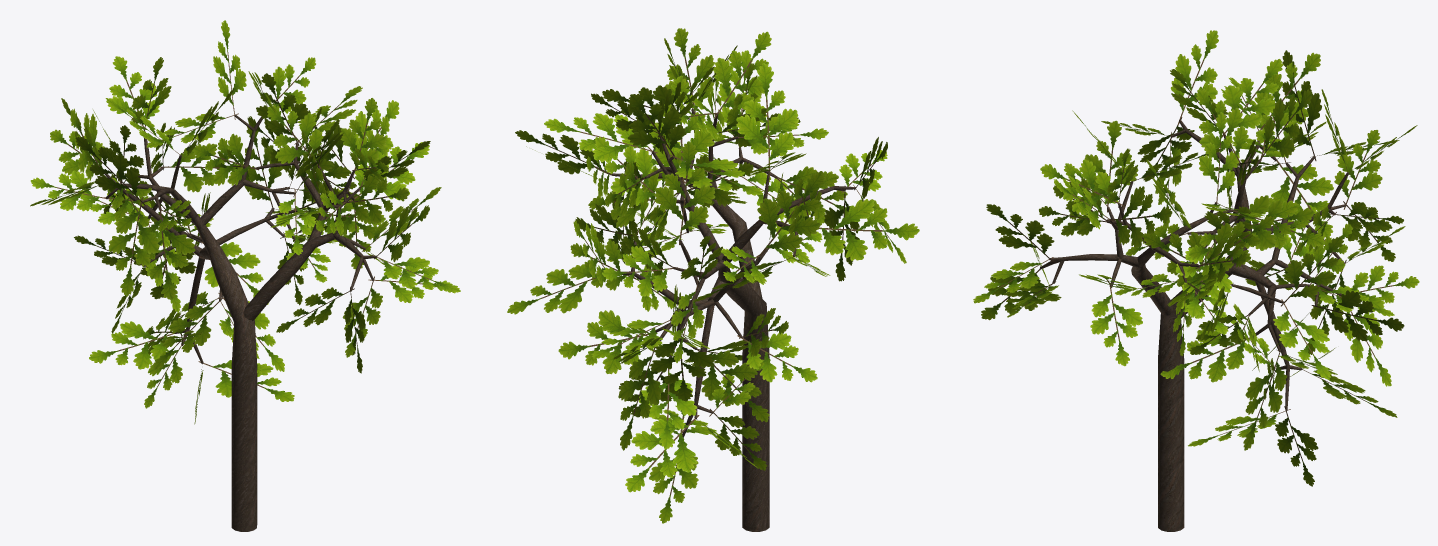
Rendered from tree_oak_young.glb.
3 views of the same model, side by side, from view 1: azimuth 30°, elevation 25°; view 2: azimuth 150°, elevation 25°; view 3: azimuth 270°, elevation 25° (orthographic). The views are drawn at different scales.
Visible parts, largest first — view 1: Trunk, Leaf#31, Trunk#4, Leaf#30, Leaf#3, Leaf#64, Leaf#32, Leaf#72, Leaf#16, Leaf#83, Leaf#41, Leaf#82 (+37 smaller); view 2: Trunk, Leaf#38, Leaf#35, Leaf#21, Leaf#42, Leaf#4, Leaf#26, Leaf#63, Leaf#9, Leaf#16, Leaf#76, Leaf#27 (+45 smaller); view 3: Trunk, Leaf#37, Leaf#15, Leaf#69, Leaf#26, Leaf#33, Leaf#17, Leaf#10, Leaf#32, Leaf#56, Leaf#9, Leaf#84 (+42 smaller).
Part boxes in pixels (left/top/right/bottom): Trunk: left=209, top=249, right=257, bottom=505; Leaf#31: left=108, top=197, right=159, bottom=296; Trunk#4: left=243, top=232, right=334, bottom=321; Leaf#30: left=134, top=206, right=195, bottom=300; Leaf#3: left=89, top=321, right=174, bottom=369; Leaf#64: left=267, top=104, right=323, bottom=168; Leaf#32: left=75, top=137, right=145, bottom=205; Leaf#72: left=193, top=133, right=259, bottom=185; Leaf#16: left=153, top=297, right=223, bottom=370; Leaf#83: left=340, top=98, right=386, bottom=175; Leaf#41: left=106, top=56, right=159, bottom=131; Leaf#82: left=342, top=173, right=409, bottom=223; Trunk: left=726, top=278, right=769, bottom=503; Leaf#38: left=736, top=63, right=798, bottom=176; Leaf#35: left=819, top=199, right=919, bottom=260; Leaf#21: left=756, top=171, right=825, bottom=259; Leaf#42: left=654, top=141, right=715, bottom=244; Leaf#4: left=625, top=415, right=699, bottom=492; Leaf#26: left=558, top=310, right=648, bottom=374; Leaf#63: left=713, top=31, right=771, bottom=118; Leaf#9: left=507, top=264, right=596, bottom=314; Leaf#16: left=696, top=349, right=769, bottom=422; Leaf#76: left=544, top=113, right=657, bottom=162; Leaf#27: left=618, top=346, right=661, bottom=450; Trunk: left=1158, top=268, right=1231, bottom=504; Leaf#37: left=1221, top=59, right=1283, bottom=137; Leaf#15: left=1160, top=329, right=1258, bottom=382; Leaf#69: left=1090, top=283, right=1142, bottom=366; Leaf#26: left=1311, top=290, right=1404, bottom=341; Leaf#33: left=1271, top=156, right=1333, bottom=238; Leaf#17: left=1243, top=346, right=1287, bottom=450; Leaf#10: left=1281, top=236, right=1343, bottom=306; Leaf#32: left=1170, top=30, right=1218, bottom=124; Leaf#56: left=1196, top=89, right=1248, bottom=167; Leaf#9: left=1273, top=299, right=1331, bottom=379; Leaf#84: left=1040, top=159, right=1123, bottom=214.
Size of the model in its own units: 7.86 by 8.7 by 7.77.
Materials: 3 (3 with a texture image).
